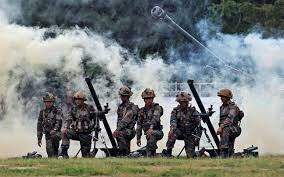gun: (80, 77, 119, 160), (185, 79, 216, 158)
uniform: (34, 105, 63, 158), (219, 103, 244, 156), (169, 107, 199, 145), (138, 107, 164, 146), (116, 103, 138, 146)
